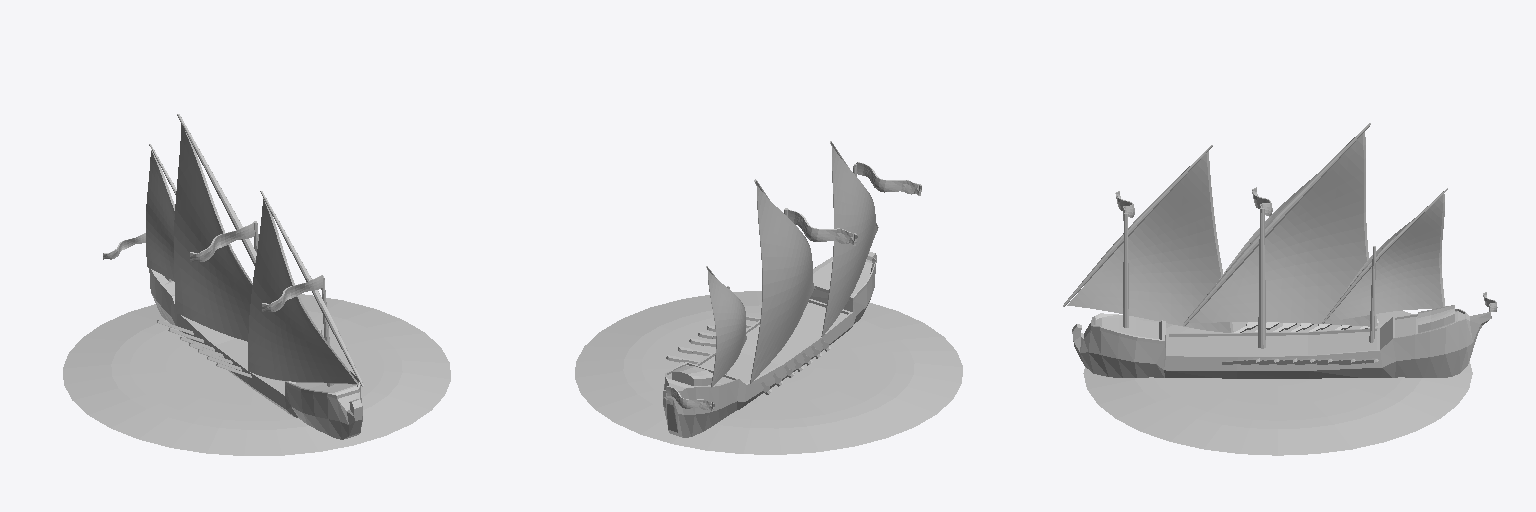
Rendered from galleass_with_base.obj.
3 views of the same model, side by side, from view 1: azimuth 30°, elevation 25°; view 2: azimuth 150°, elevation 25°; view 3: azimuth 270°, elevation 25° (orthographic).
Parts seen in each view (by area): view 1: Cylinder; view 2: Cylinder; view 3: Cylinder.
Boxes of the visible parts, x1,y1,x2,y2 form: Cylinder: [63, 114, 450, 455]; Cylinder: [575, 141, 962, 454]; Cylinder: [1063, 123, 1497, 455].
Size of the model in its own units: 3.5 by 2.33 by 3.91.